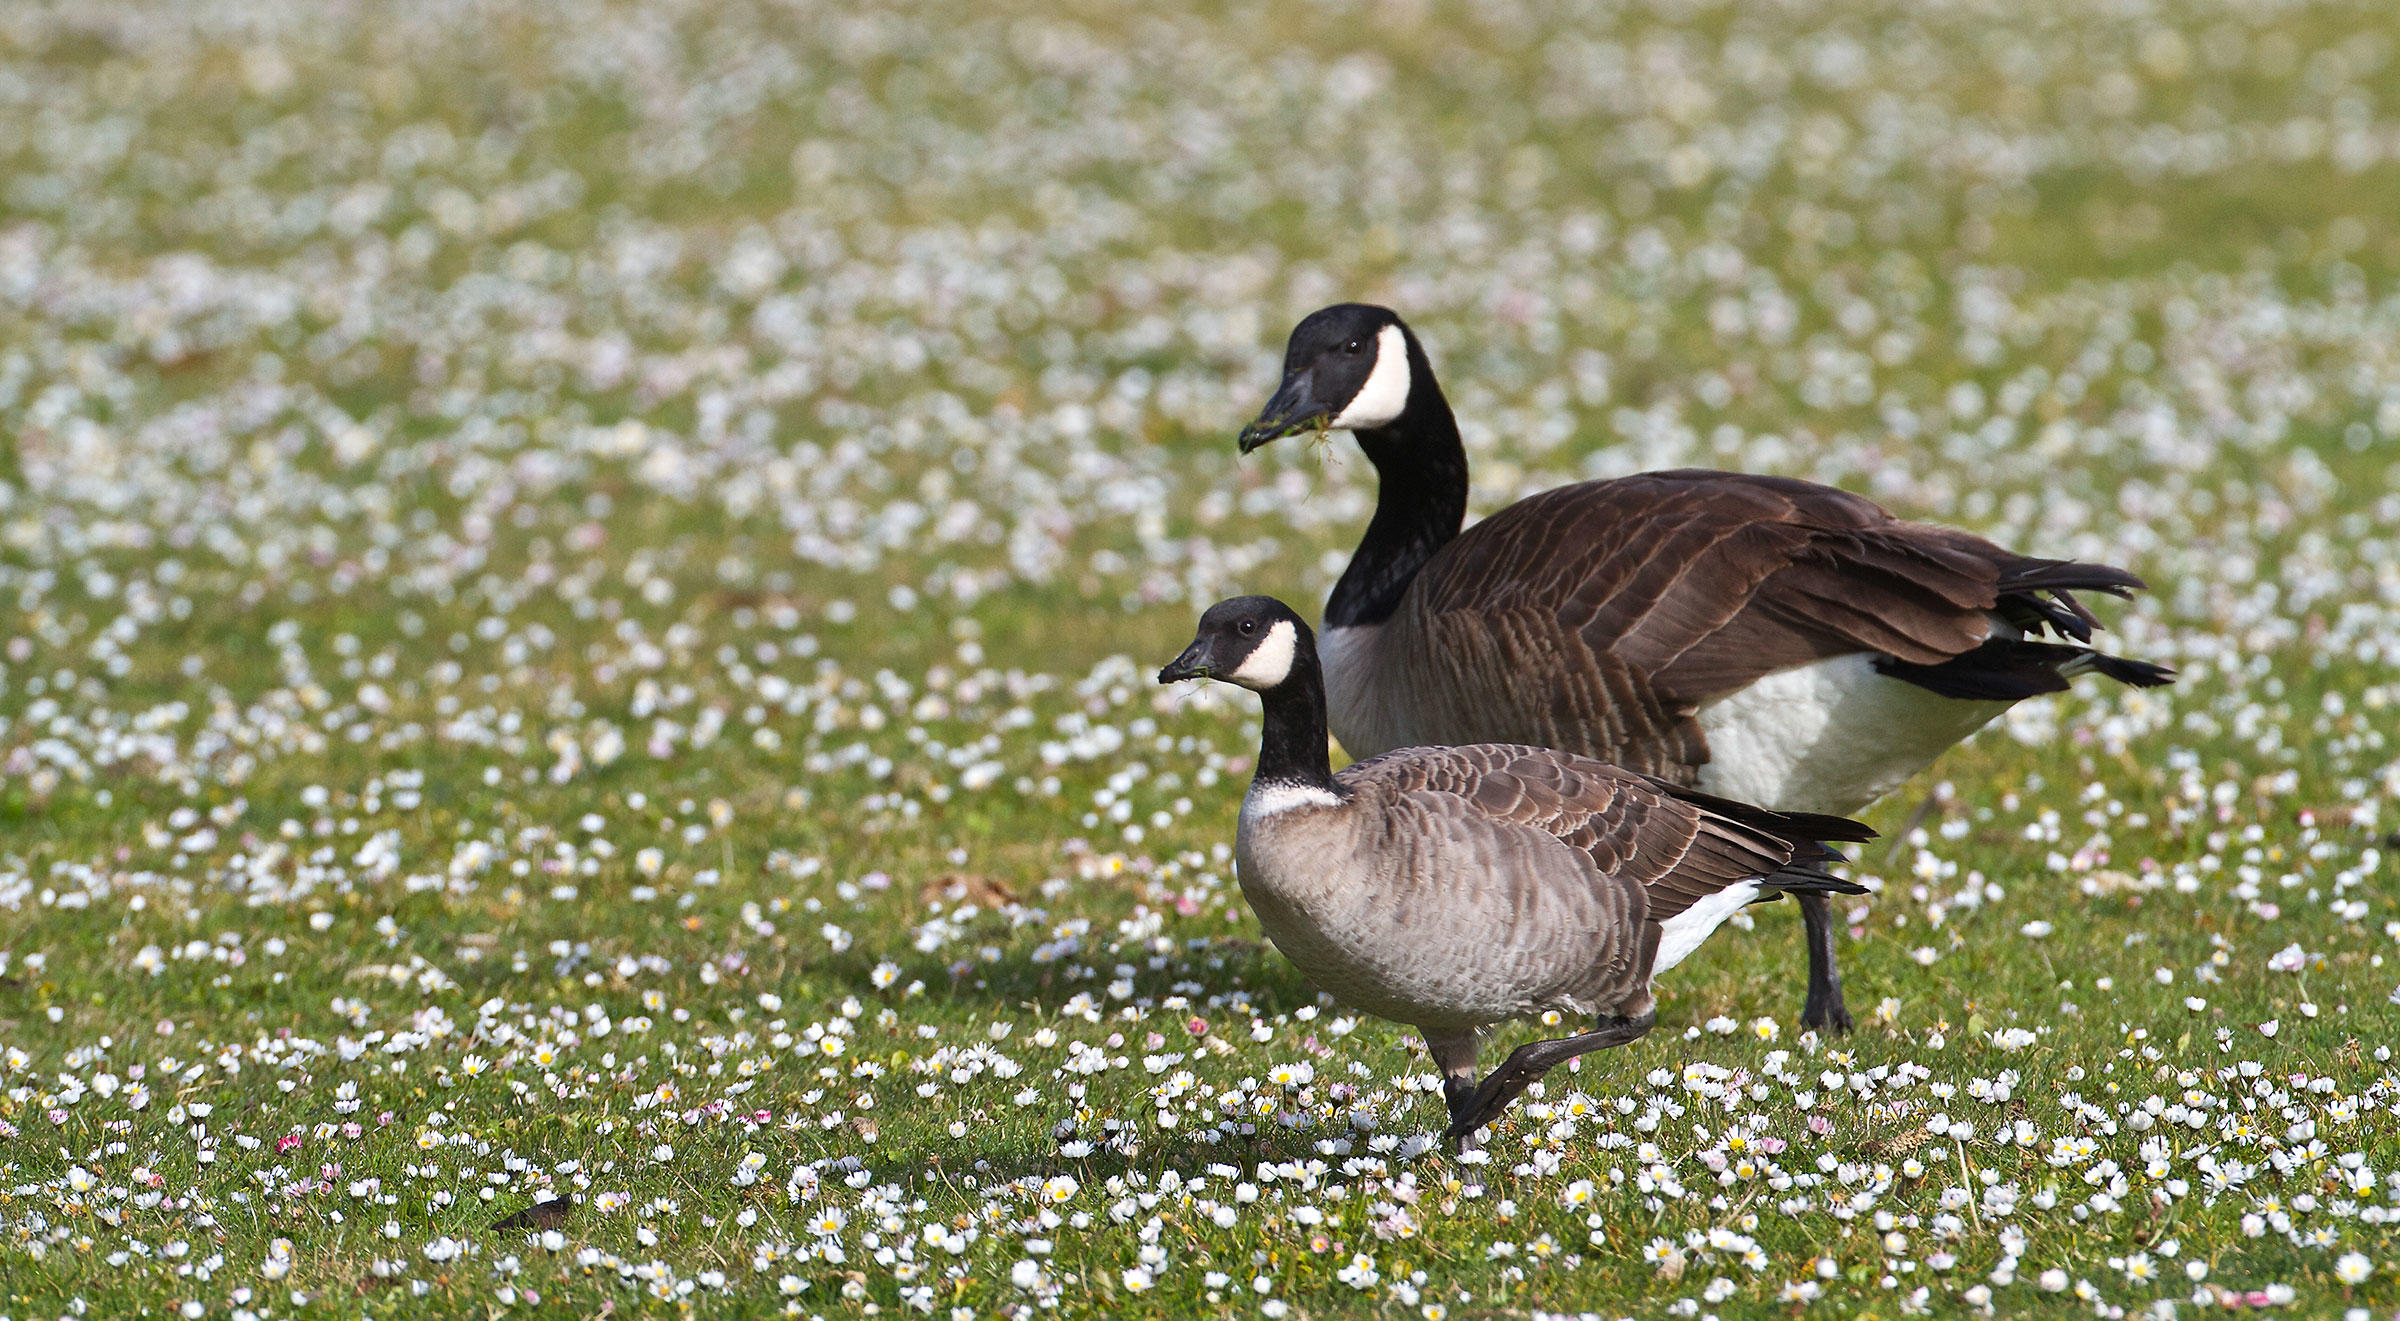goose: (1148, 589, 1881, 1131), (1224, 298, 2107, 743)
